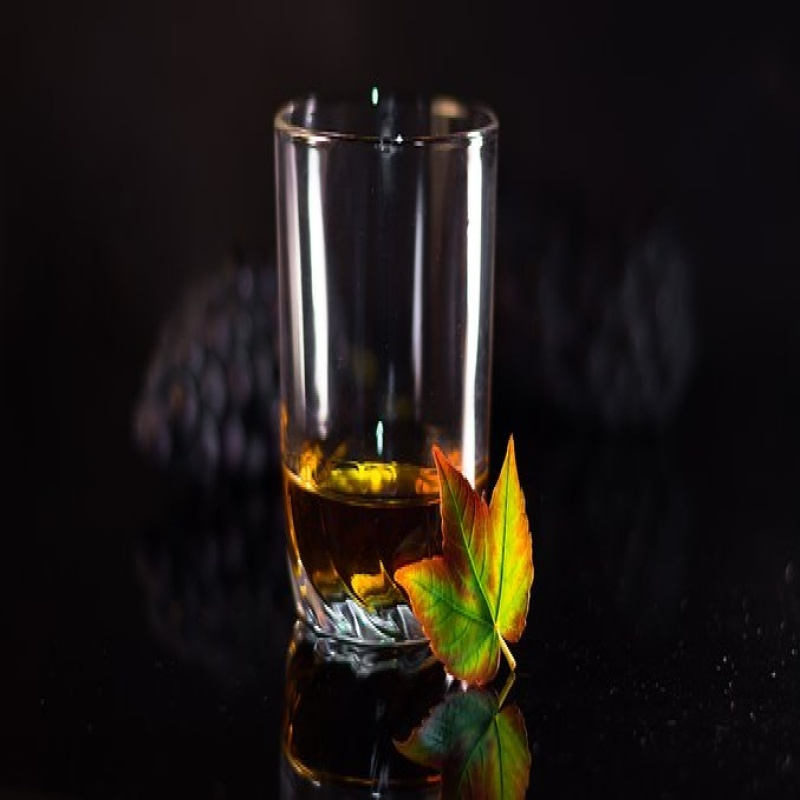whiskey: (267, 88, 508, 642)
